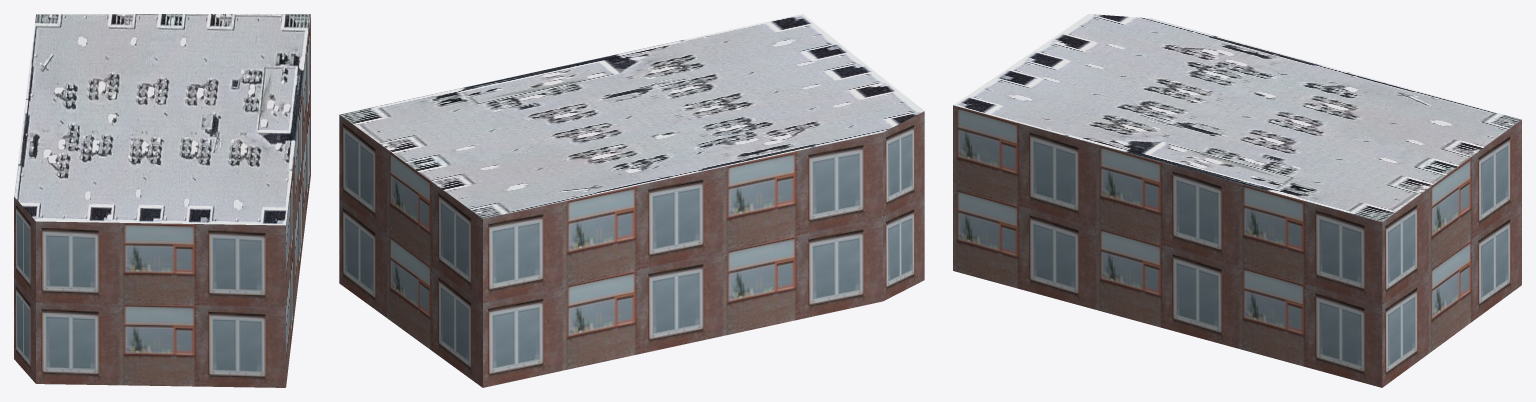
File: ResTex__107.fbx
The picture shows the model from 3 angles, left to right: view 1: azimuth 30°, elevation 25°; view 2: azimuth 150°, elevation 25°; view 3: azimuth 270°, elevation 25°; orthographic projection. The views are drawn at different scales.
Parts seen in each view (by area): view 1: CityEngineMaterial_15_m, CityEngineMaterial_19_m; view 2: CityEngineMaterial_19_m, CityEngineMaterial_15_m; view 3: CityEngineMaterial_19_m, CityEngineMaterial_15_m.
Part boxes in pixels (x1=…): CityEngineMaterial_15_m: x1=14, y1=14, x2=310, y2=225; CityEngineMaterial_19_m: x1=14, y1=14, x2=310, y2=387; CityEngineMaterial_19_m: x1=339, y1=111, x2=924, y2=387; CityEngineMaterial_15_m: x1=340, y1=14, x2=923, y2=218; CityEngineMaterial_19_m: x1=953, y1=105, x2=1521, y2=387; CityEngineMaterial_15_m: x1=953, y1=14, x2=1521, y2=222.
Bounding box in the file's own units: 16.18 × 6 × 18.66.
Materials: 2 (2 with a texture image).
